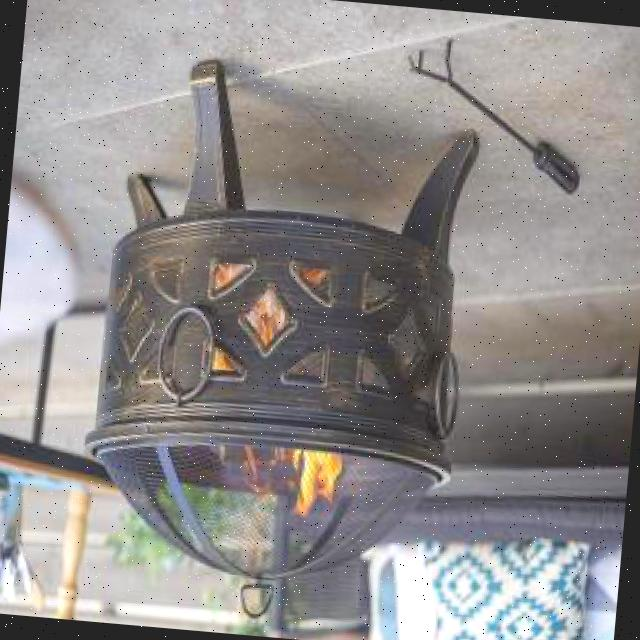fire: (281, 433, 351, 530)
